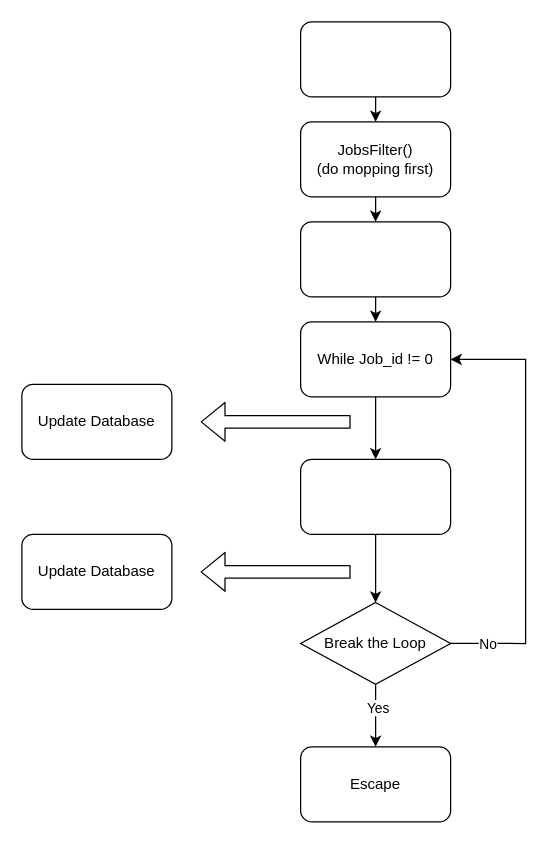
Image size: 558x844. Some labels were removed from this diagram. Each missing label, with the centre of its shape:
"DoTask(const int& job_id)" goes at [375,496].
"Get Job Ids" goes at [375,59].
"Ugv Changes Map" goes at [375,259].
